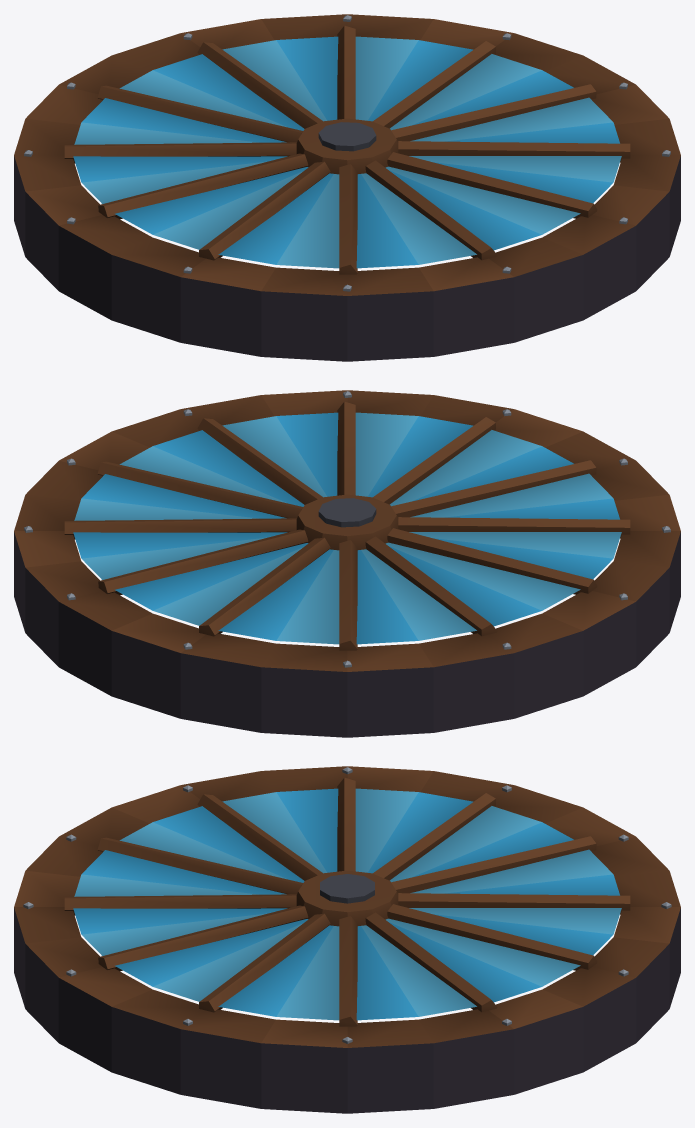
File: trampoline.glb
3 renders of one model, top to bottom at view 1: azimuth 30°, elevation 25°; view 2: azimuth 150°, elevation 25°; view 3: azimuth 270°, elevation 25°, orthographic.
Visible parts, largest first — view 1: trampoline; view 2: trampoline; view 3: trampoline.
Part boxes in pixels (x1=…): trampoline: x1=14, y1=14, x2=680, y2=361; trampoline: x1=14, y1=390, x2=680, y2=737; trampoline: x1=14, y1=766, x2=680, y2=1113.
Size of the model in its own units: 4.6 by 0.66 by 4.6.
